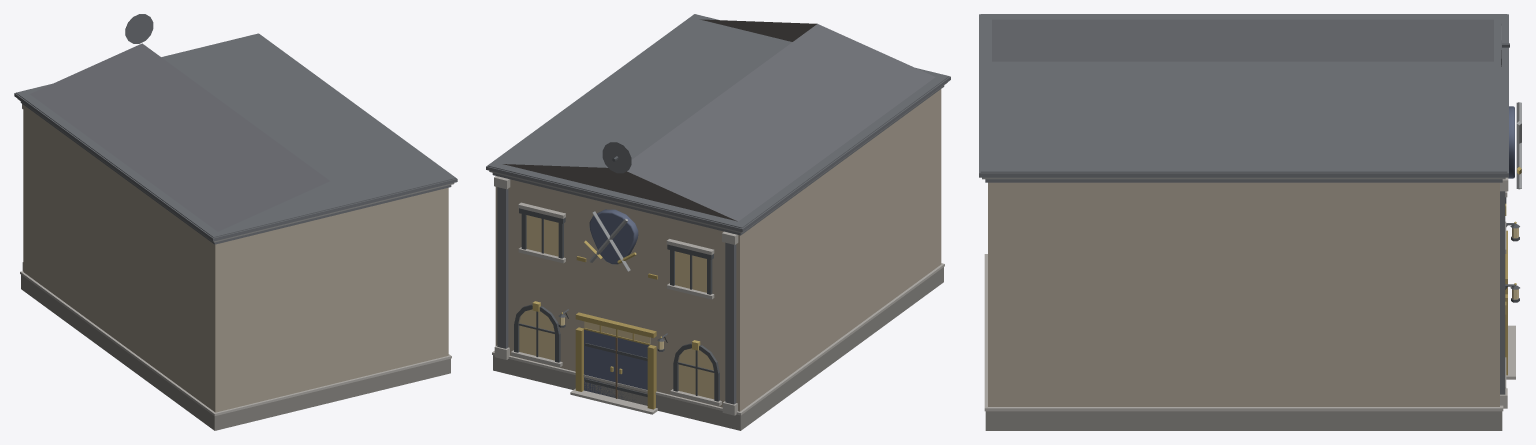
Rendered from centro-arsenal-5f49c531.glb.
The picture shows the model from 3 angles, left to right: view 1: azimuth 30°, elevation 25°; view 2: azimuth 150°, elevation 25°; view 3: azimuth 270°, elevation 25°; orthographic projection. The views are drawn at different scales.
Parts seen in each view (by area): view 1: centro_arsenal_wall, centro_arsenal_body; view 2: centro_arsenal_body, centro_arsenal_wall, centro_arsenal_lamp, centro_arsenal_glow; view 3: centro_arsenal_wall, centro_arsenal_body, centro_arsenal_glow.
Boxes of the visible parts, x1=… form: centro_arsenal_wall: x1=21, y1=105, x2=450, y2=430; centro_arsenal_body: x1=14, y1=14, x2=457, y2=416; centro_arsenal_body: x1=486, y1=14, x2=950, y2=415; centro_arsenal_wall: x1=493, y1=89, x2=943, y2=430; centro_arsenal_lamp: x1=519, y1=215, x2=714, y2=399; centro_arsenal_glow: x1=589, y1=209, x2=638, y2=271; centro_arsenal_wall: x1=985, y1=182, x2=1502, y2=430; centro_arsenal_body: x1=979, y1=14, x2=1521, y2=411; centro_arsenal_glow: x1=1508, y1=102, x2=1521, y2=189.
Bounding box in the file's own units: 9.34 × 8.99 × 13.47.
